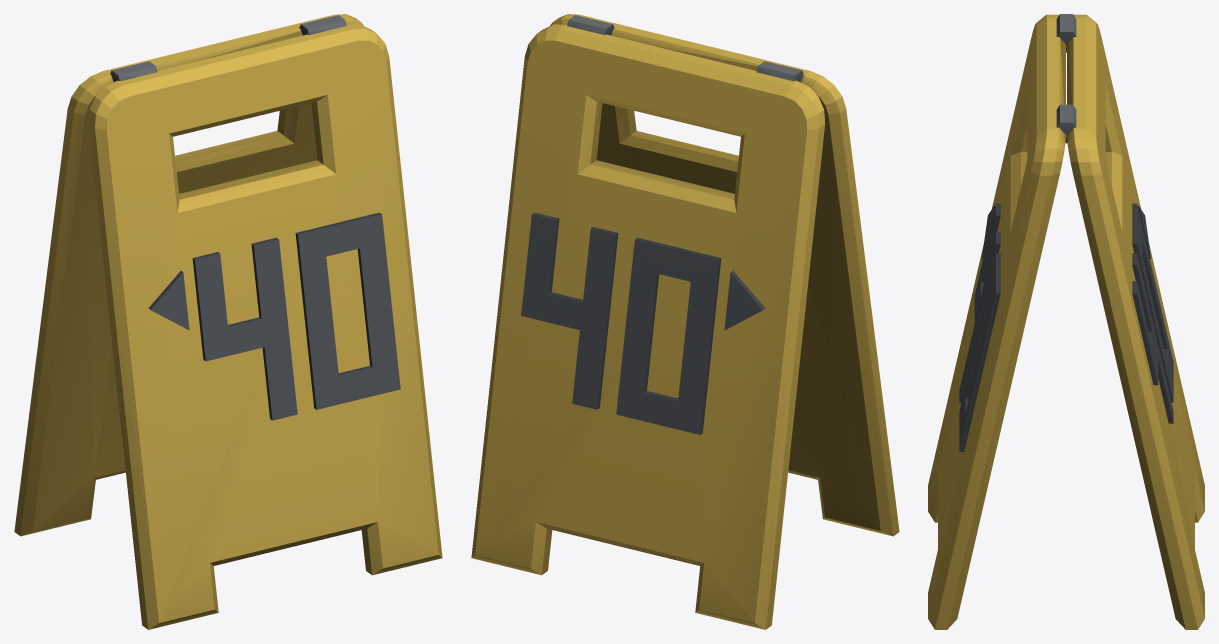
File: yardmark.glb
3 renders of one model, left to right at view 1: azimuth 30°, elevation 25°; view 2: azimuth 150°, elevation 25°; view 3: azimuth 270°, elevation 25°, orthographic.
Visible parts, largest first — view 1: yardmark; view 2: yardmark; view 3: yardmark.
Part boxes in pixels (box(x1,y1,x2,y2)): yardmark: box(14, 14, 442, 629); yardmark: box(471, 14, 899, 629); yardmark: box(928, 14, 1204, 629).
Bounding box in the file's own units: 0.448 × 0.7272 × 0.3714.
